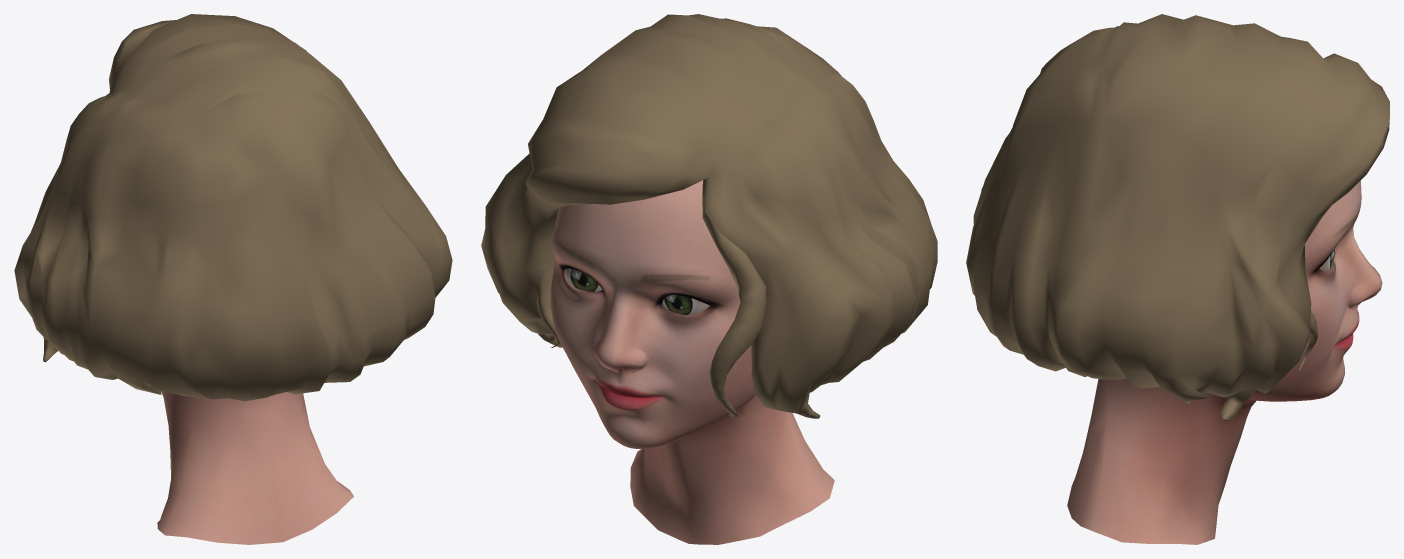
The model's file is av_irina_head.glb.
3 renders of one model, left to right at view 1: azimuth 30°, elevation 25°; view 2: azimuth 150°, elevation 25°; view 3: azimuth 270°, elevation 25°, orthographic. The views are drawn at different scales.
Visible parts, largest first — view 1: EyeLeft.001; view 2: EyeLeft.001; view 3: EyeLeft.001.
Part boxes in pixels (<box>): EyeLeft.001: <box>14,14,452,544</box>; EyeLeft.001: <box>481,14,937,544</box>; EyeLeft.001: <box>966,14,1389,544</box>.
Bounding box in the file's own units: 0.5537 × 0.6745 × 0.5143.
3 materials, 3 textured.
